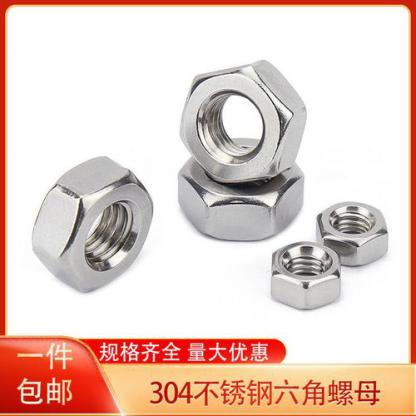FOD: (22, 154, 159, 297), (176, 56, 309, 184), (168, 135, 315, 246), (312, 198, 390, 268), (269, 239, 344, 310)
